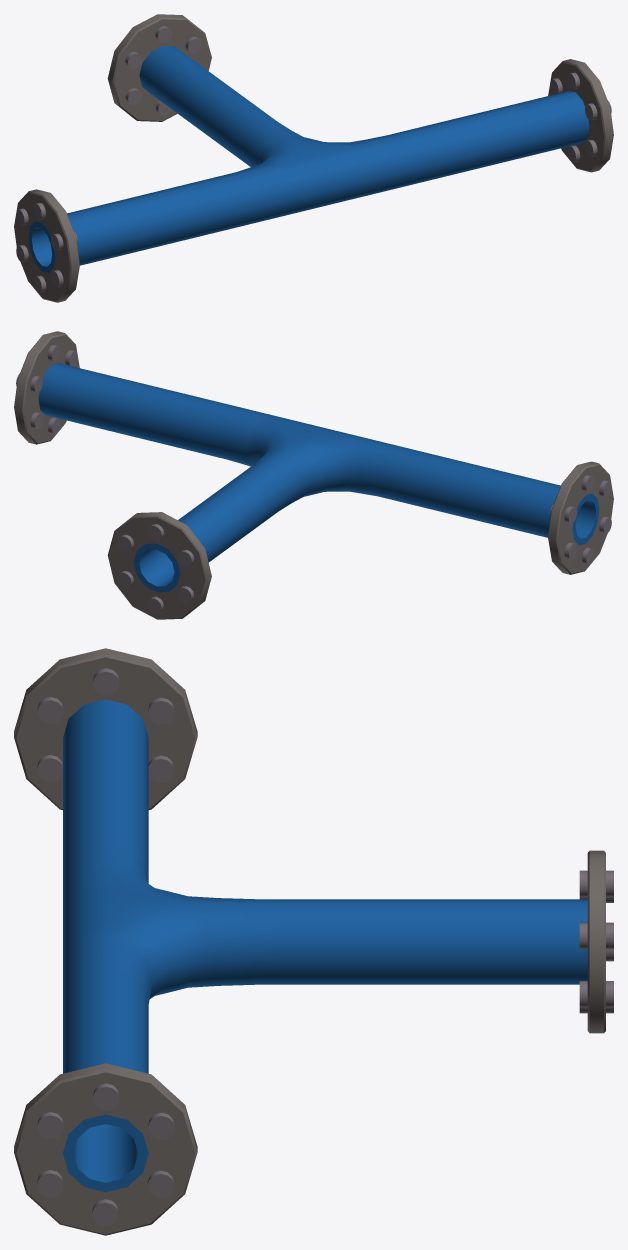
File: Pipe-TwoEnds.fbx
3 renders of one model, top to bottom at view 1: azimuth 30°, elevation 25°; view 2: azimuth 150°, elevation 25°; view 3: azimuth 270°, elevation 25°, orthographic. The views are drawn at different scales.
Visible parts, largest first — view 1: Pipe-TwoEnds; view 2: Pipe-TwoEnds; view 3: Pipe-TwoEnds.
Part boxes in pixels (x1,y1,x2,y2): Pipe-TwoEnds: (14, 14, 613, 302); Pipe-TwoEnds: (14, 331, 613, 619); Pipe-TwoEnds: (14, 648, 613, 1235).
Bounding box in the file's own units: 14.51 × 2.62 × 8.57.
